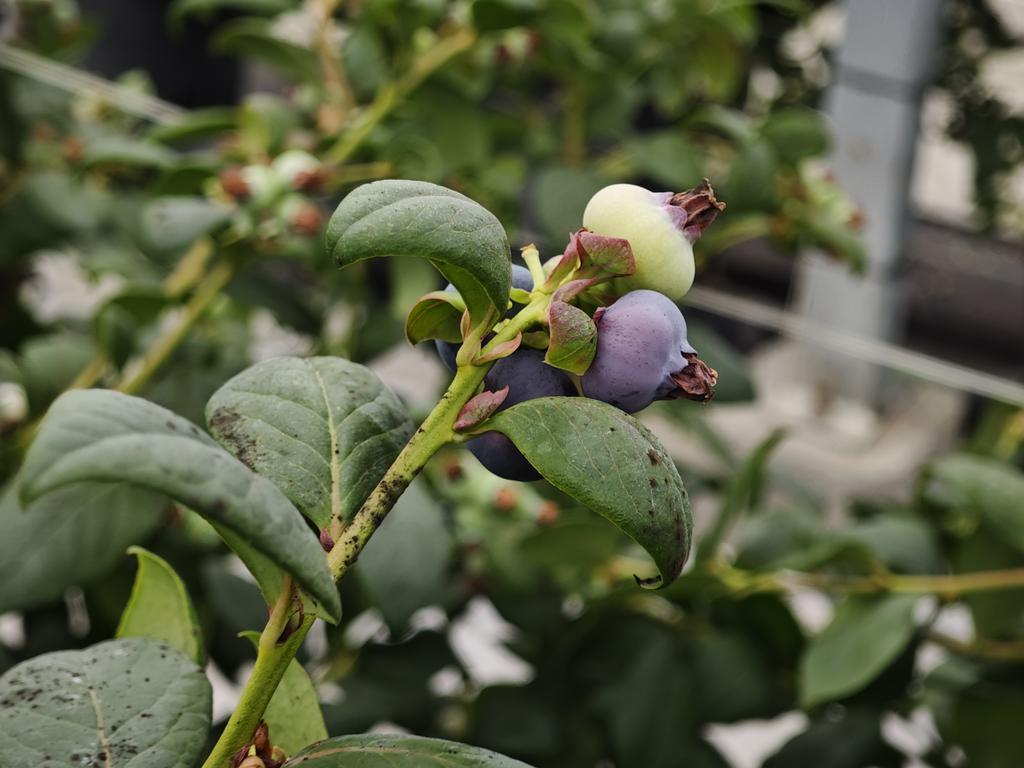RipeBlueBerry: (581, 288, 692, 411)
UnripeBlueBerry: (582, 177, 702, 296)
